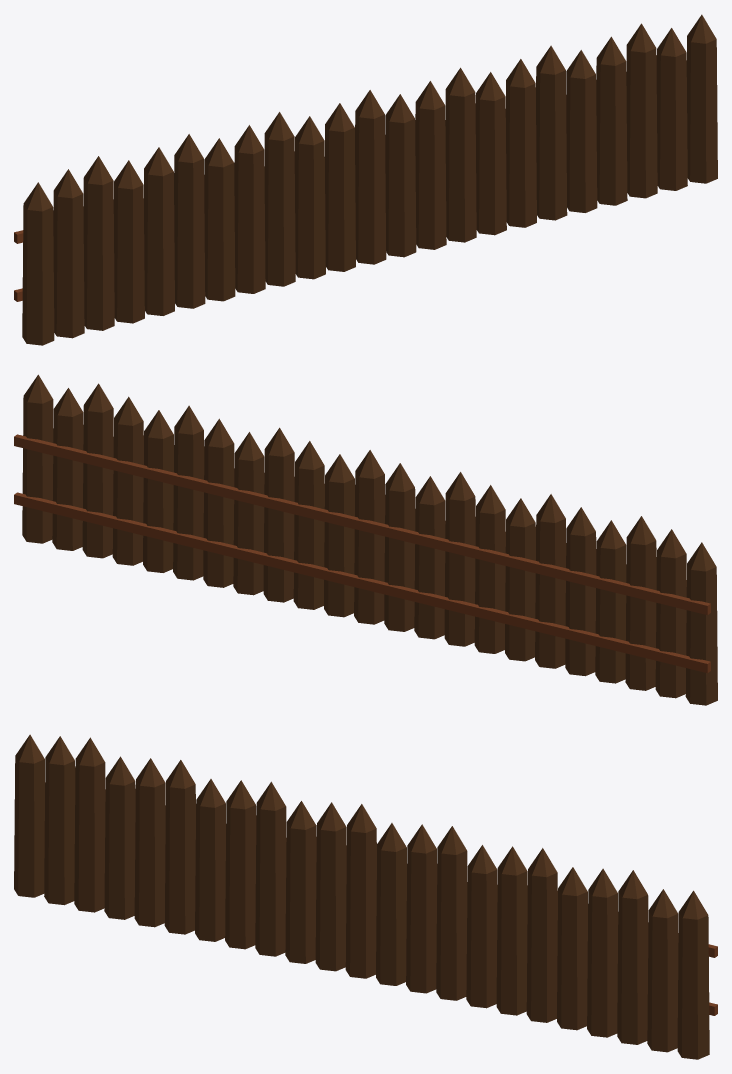
The model's file is orc_wall.glb.
The picture shows the model from 3 angles, top to bottom: view 1: azimuth 30°, elevation 25°; view 2: azimuth 150°, elevation 25°; view 3: azimuth 330°, elevation 25°; orthographic projection.
Visible parts, largest first — view 1: orc_wall; view 2: orc_wall; view 3: orc_wall.
Part boxes in pixels (bbox=[...]): orc_wall: bbox=[14, 14, 717, 345]; orc_wall: bbox=[14, 374, 717, 705]; orc_wall: bbox=[14, 734, 717, 1059].
Bounding box in the file's own units: 6.25 × 1.45 × 0.2706.
